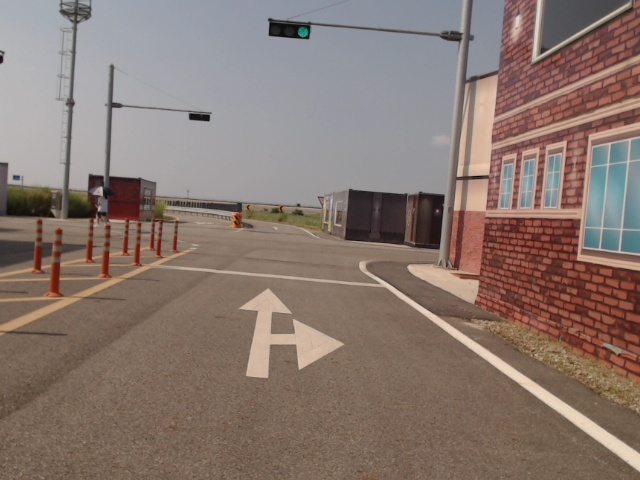green_3: (268, 21, 311, 40)
